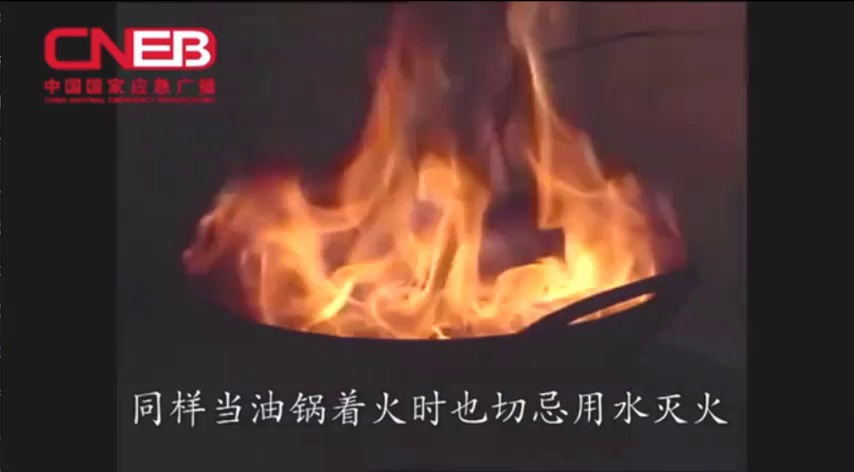fire: (183, 8, 706, 349)
